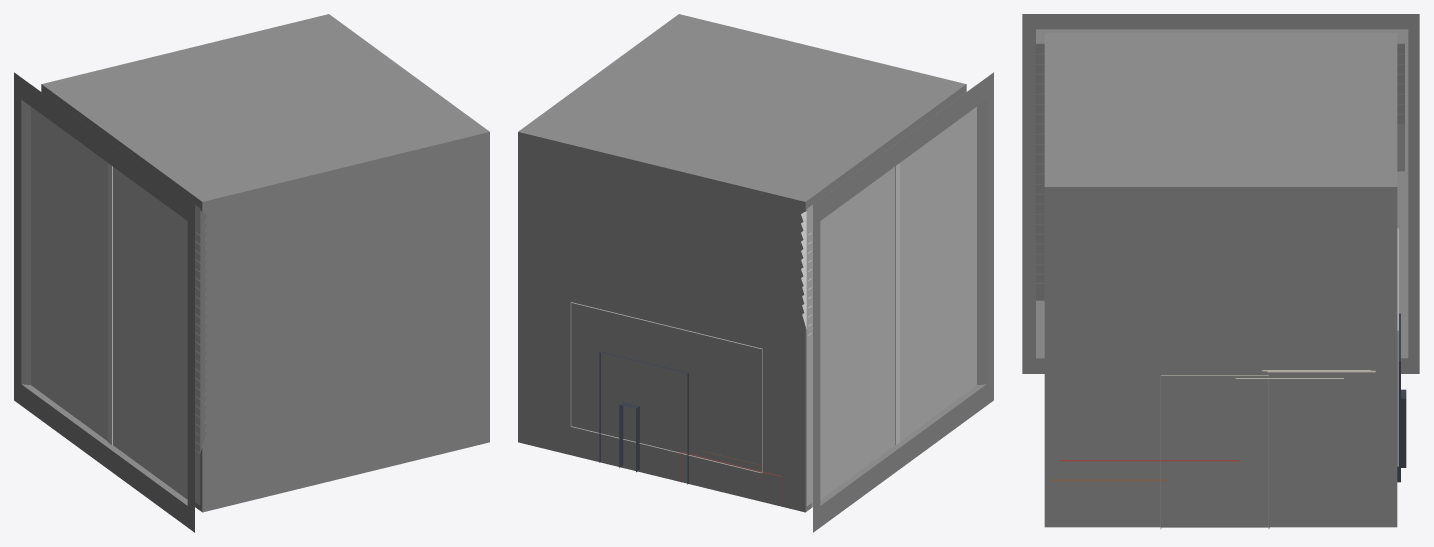
The model's file is Wall_11_Fake_Interior.FBX.
3 views of the same model, side by side, from view 1: azimuth 30°, elevation 25°; view 2: azimuth 150°, elevation 25°; view 3: azimuth 270°, elevation 25° (orthographic). The views are drawn at different scales.
Parts seen in each view (by area): view 1: Wall_11_Fake_Interior, Wall_11_Blind_01_LOD0, Wall_11_Blind_02_LOD0; view 2: Wall_11_Fake_Interior, Wall_11_Fake_Interior_A, Wall_11_Fake_Interior_D, Wall_11_Fake_Interior_C, Wall_11_Blind_01_LOD0; view 3: Wall_11_Fake_Interior, Wall_11_Blind_01_LOD0, Wall_11_Blind_02_LOD0, Wall_11_Fake_Interior_C, Wall_11_Fake_Interior_D, Wall_11_Fake_Interior_A, Wall_11_Fake_Interior_B.
Boxes of the visible parts, left/top/right/bottom form: Wall_11_Fake_Interior: left=14, top=14, right=489, bottom=532; Wall_11_Blind_01_LOD0: left=195, top=210, right=207, bottom=453; Wall_11_Blind_02_LOD0: left=195, top=215, right=207, bottom=400; Wall_11_Fake_Interior: left=518, top=14, right=993, bottom=532; Wall_11_Fake_Interior_A: left=570, top=302, right=762, bottom=473; Wall_11_Fake_Interior_D: left=619, top=402, right=782, bottom=506; Wall_11_Fake_Interior_C: left=599, top=351, right=688, bottom=484; Wall_11_Blind_01_LOD0: left=801, top=211, right=811, bottom=335; Wall_11_Fake_Interior: left=1022, top=14, right=1419, bottom=527; Wall_11_Blind_01_LOD0: left=1036, top=43, right=1404, bottom=300; Wall_11_Blind_02_LOD0: left=1035, top=44, right=1044, bottom=242; Wall_11_Fake_Interior_C: left=1059, top=313, right=1400, bottom=482; Wall_11_Fake_Interior_D: left=1052, top=370, right=1406, bottom=480; Wall_11_Fake_Interior_A: left=1235, top=228, right=1398, bottom=466; Wall_11_Fake_Interior_B: left=1160, top=375, right=1269, bottom=529.
Size of what is drawn, in the model's own units: 177 by 180 by 180.
